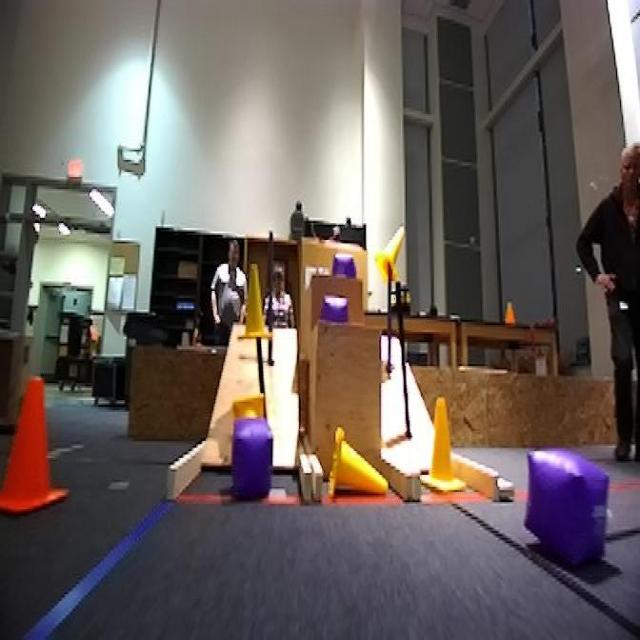frc_cone: (424, 395, 466, 500), (328, 428, 390, 496), (243, 279, 270, 342), (375, 232, 402, 284), (230, 402, 270, 427)
frc_cube: (530, 449, 610, 568), (230, 426, 274, 498), (323, 298, 349, 327), (335, 250, 355, 276)
